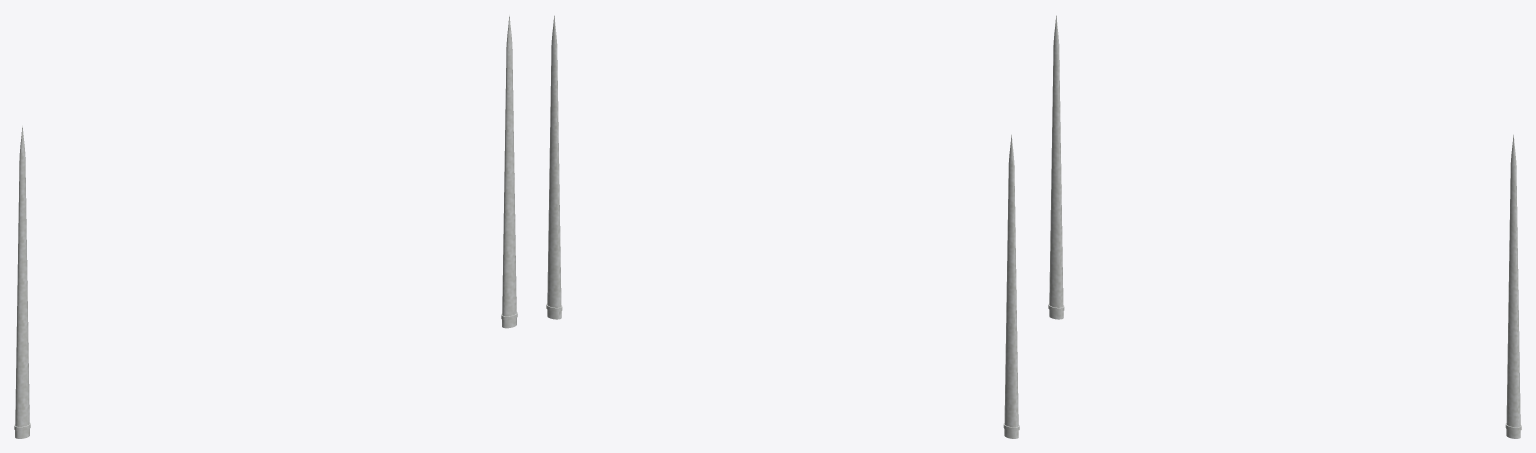
Rendered from SM_Ponte_Antenne.fbx.
3 renders of one model, left to right at view 1: azimuth 30°, elevation 25°; view 2: azimuth 150°, elevation 25°; view 3: azimuth 330°, elevation 25°, orthographic. The views are drawn at different scales.
Parts seen in each view (by area): view 1: SM_Ponte_Antenne; view 2: SM_Ponte_Antenne; view 3: SM_Ponte_Antenne.
Boxes of the visible parts, x1,y1,x2,y2 form: SM_Ponte_Antenne: (14, 14, 517, 438); SM_Ponte_Antenne: (546, 15, 1019, 438); SM_Ponte_Antenne: (1048, 15, 1521, 438).
Size of what is drawn, in the model's own units: 4976 by 249 by 3000.
Materials: 1 (1 with a texture image).
